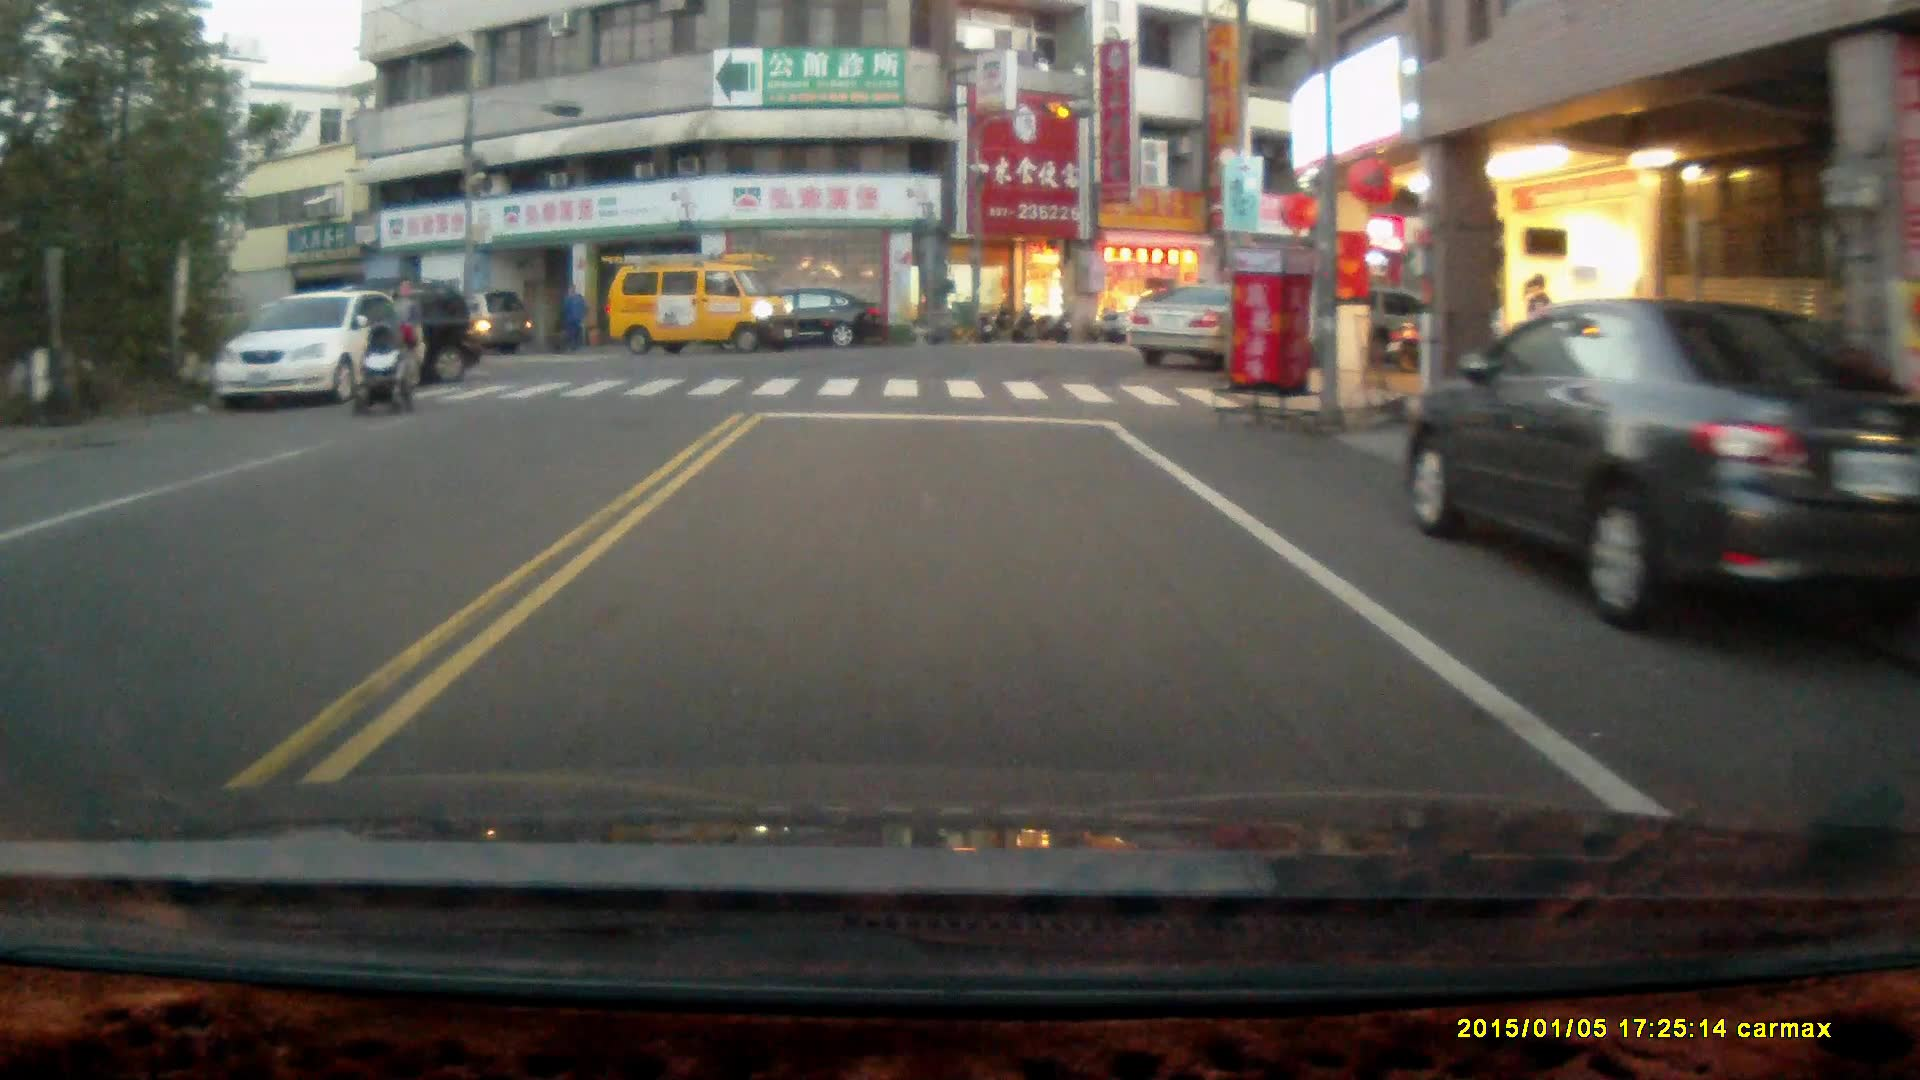pedestrian: (380, 274, 422, 397), (557, 280, 583, 352)
rider: (347, 319, 413, 417)
vehicle: (1400, 299, 1920, 640), (214, 293, 420, 415), (262, 274, 480, 383), (607, 252, 793, 354), (728, 280, 885, 350), (404, 286, 539, 364), (1126, 286, 1238, 372)
